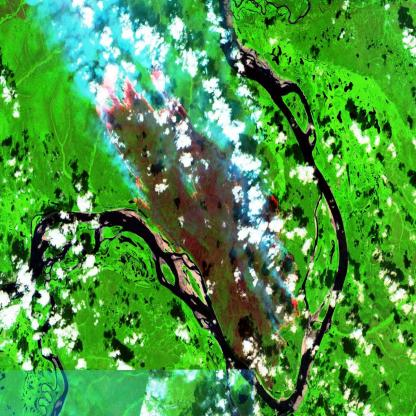fire: (93, 54, 195, 224), (249, 175, 308, 357)
